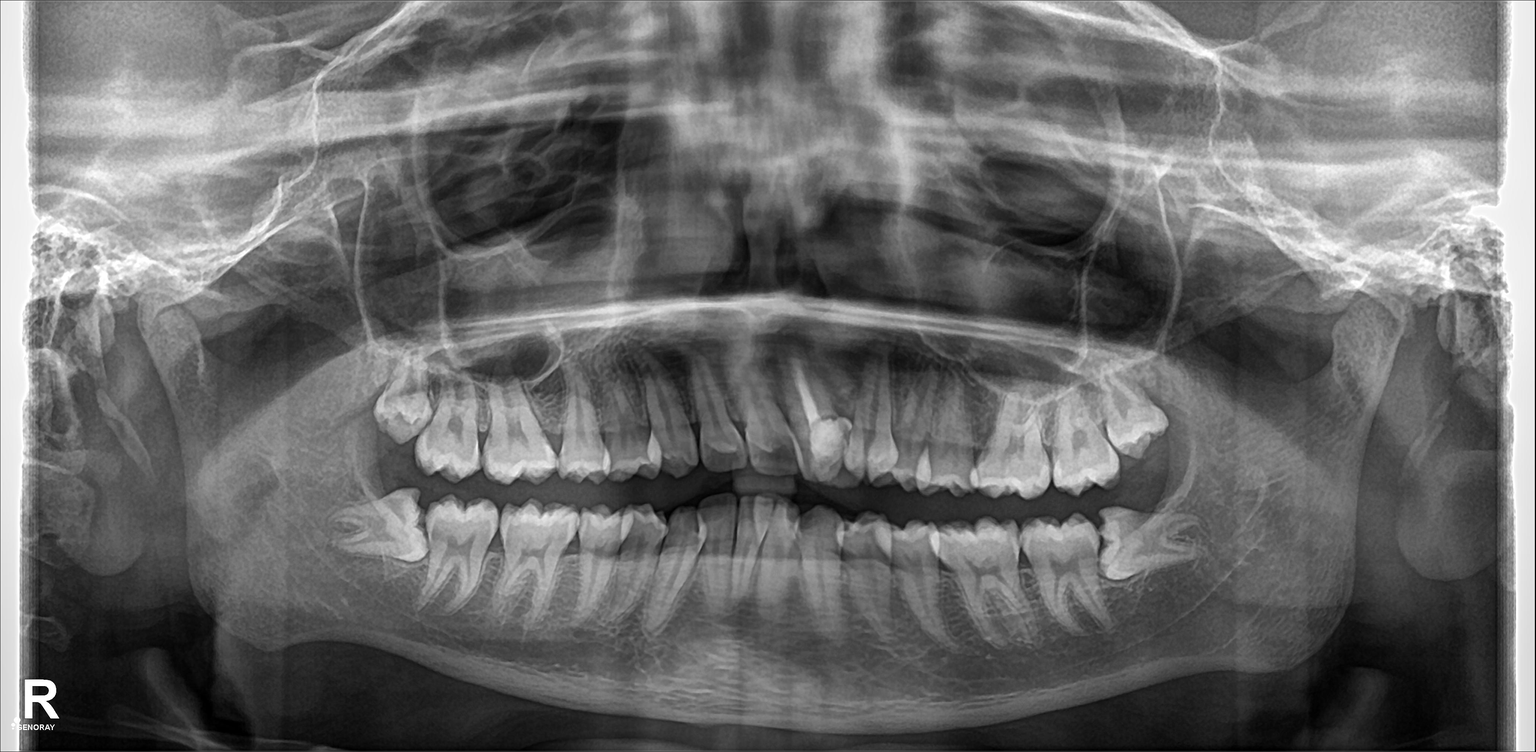Endodontically Treated Tooth: (793, 361, 861, 480)
Impacted Third Molar: (1099, 512, 1201, 572), (328, 504, 422, 562), (380, 361, 434, 429)
